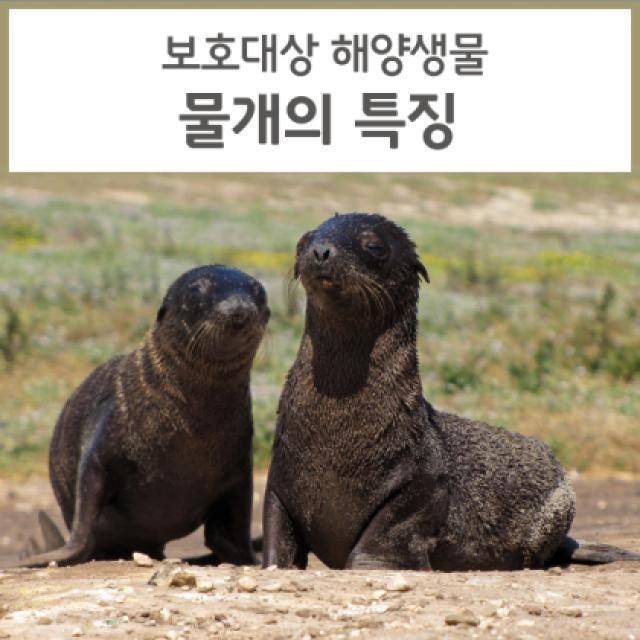WaterDog: (269, 207, 587, 574), (29, 258, 276, 571)
